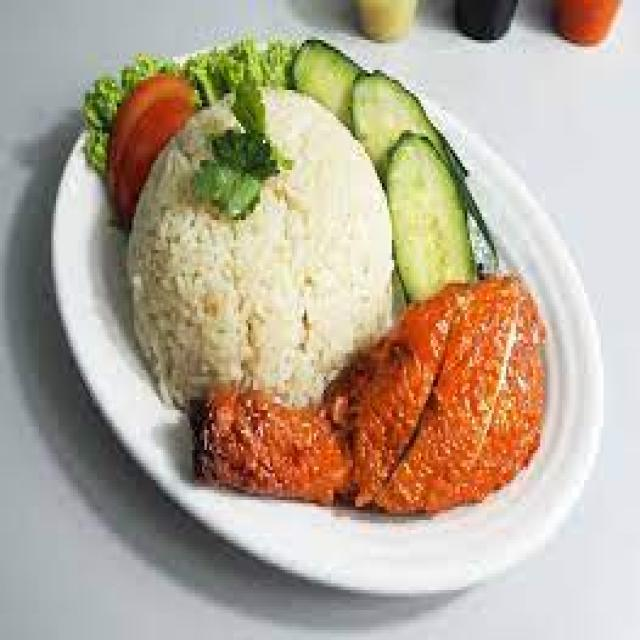Chicken: (200, 273, 543, 510)
Green veg: (85, 37, 494, 297)
Non green veg: (107, 73, 192, 223)
Rice: (127, 87, 392, 403)
